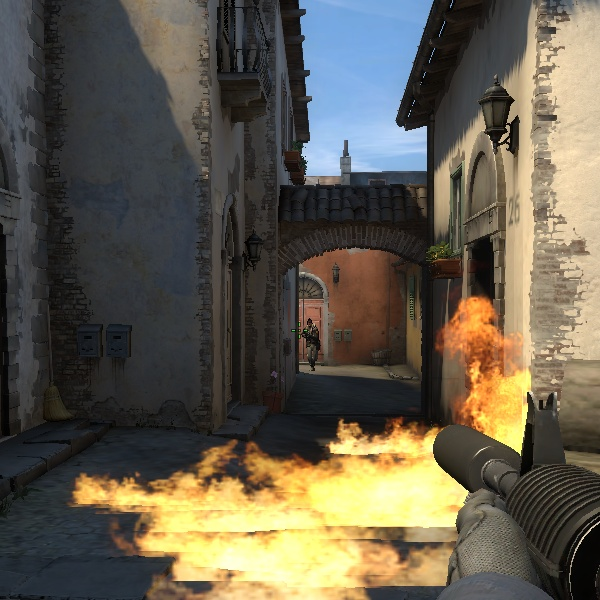t_body: (58, 0, 600, 595), (297, 312, 328, 370)
